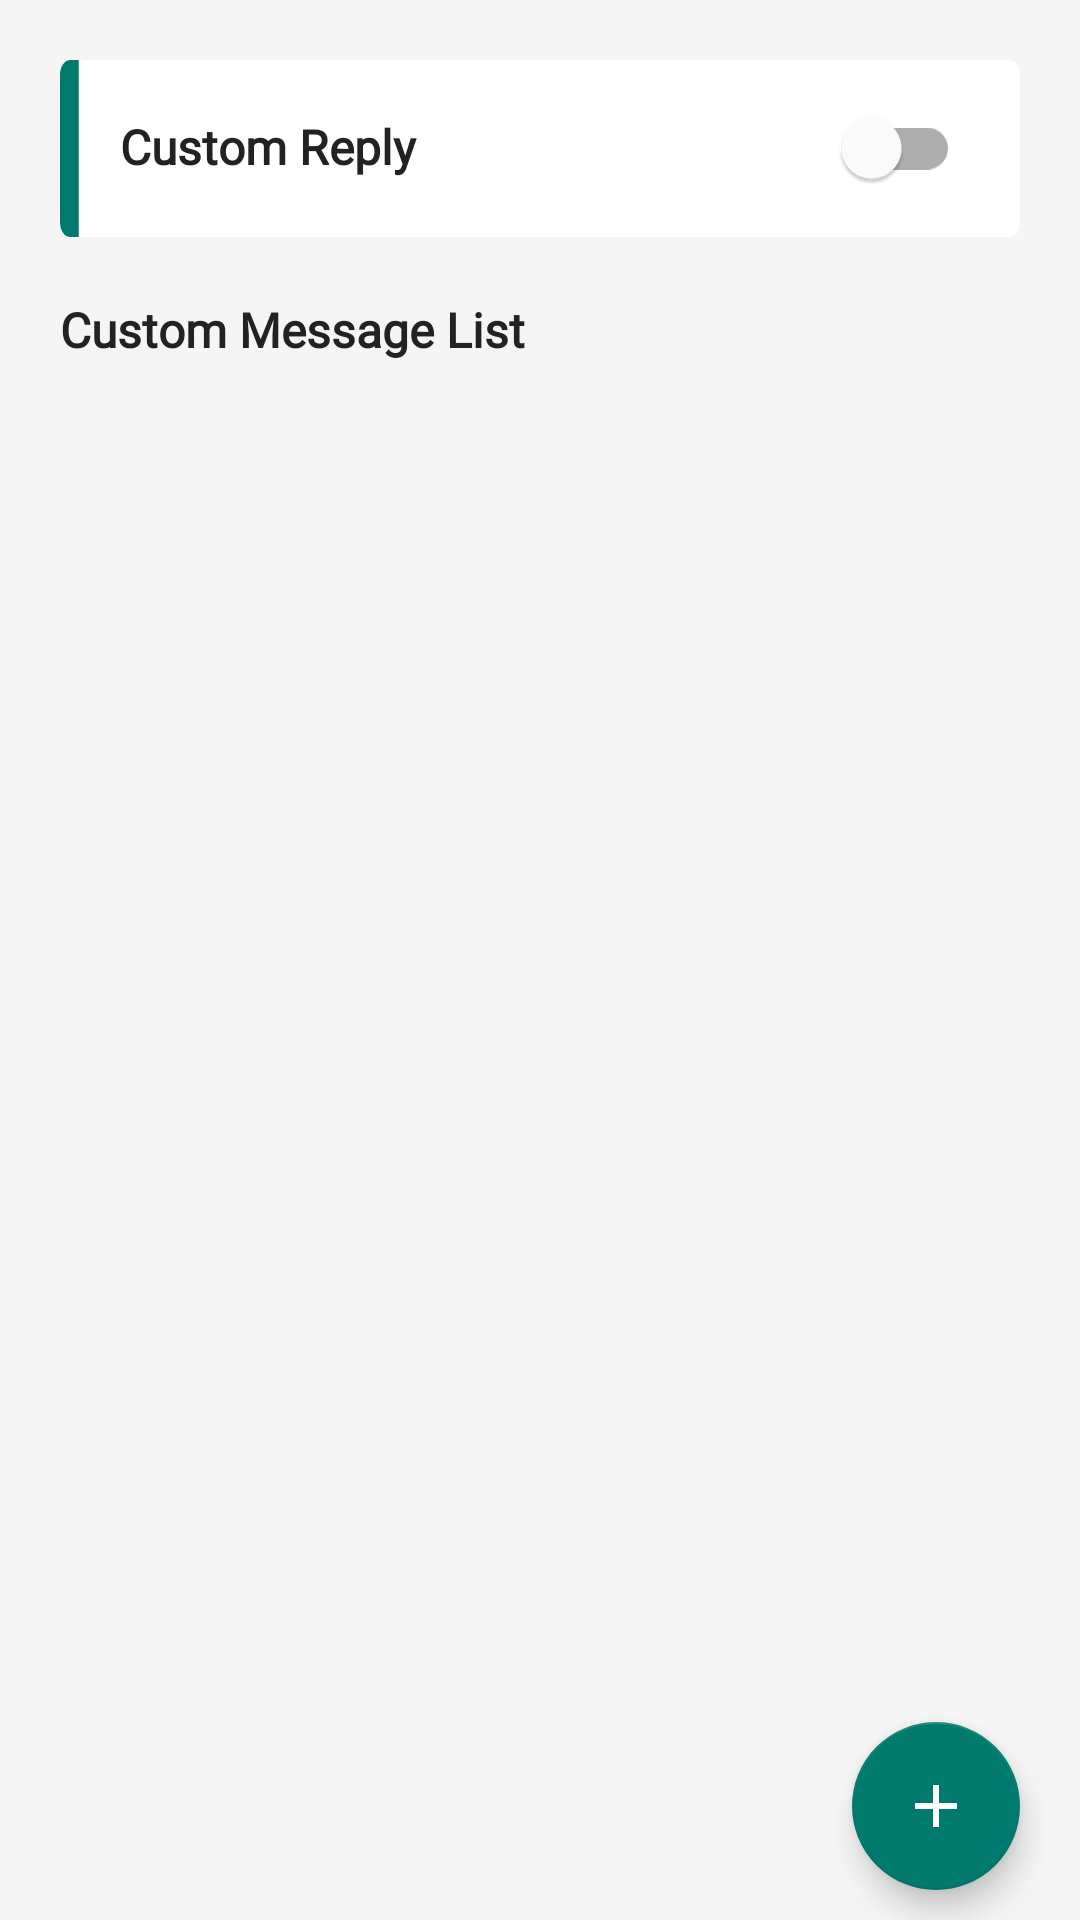

Icons on this 1080×1920 Android screen, each with its box as bbox=[x1, y1, x2, y2]:
add: bbox=[852, 1722, 1020, 1890]
